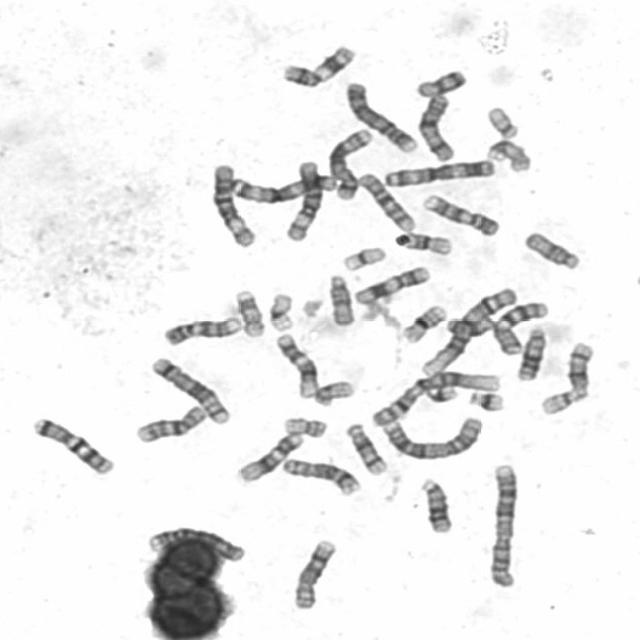A1: (419, 286, 518, 379), (371, 371, 502, 426)
A2: (381, 416, 484, 460), (489, 462, 522, 590)
A3: (382, 157, 494, 187), (230, 175, 337, 204)
B4: (342, 80, 419, 154), (147, 524, 246, 562)
B5: (149, 355, 233, 426), (328, 127, 374, 200)
C10: (356, 172, 418, 234), (134, 406, 210, 443)
C11: (282, 44, 358, 88), (353, 264, 432, 303)
C12: (236, 432, 304, 482), (275, 333, 320, 400)
C6: (212, 161, 258, 248), (285, 160, 323, 243)
C7: (32, 418, 116, 477), (491, 299, 550, 356)
C8: (293, 537, 338, 612), (280, 457, 362, 495)
C9: (422, 193, 500, 237), (161, 315, 242, 347)
D13: (419, 477, 459, 538), (515, 326, 546, 381)
D14: (345, 422, 389, 477), (566, 340, 595, 398)
D15: (520, 229, 584, 271), (326, 272, 357, 327)
E16: (401, 303, 449, 345), (404, 231, 454, 255)
E17: (485, 138, 533, 172), (234, 288, 265, 338)
E18: (416, 67, 468, 99), (445, 314, 498, 337)
F19: (342, 245, 388, 272), (266, 292, 296, 332)
F20: (313, 379, 356, 406), (283, 416, 328, 439)
G21: (467, 389, 505, 413), (424, 385, 459, 403)
G22: (486, 105, 520, 139), (538, 390, 577, 414)
X: (414, 94, 457, 164)
